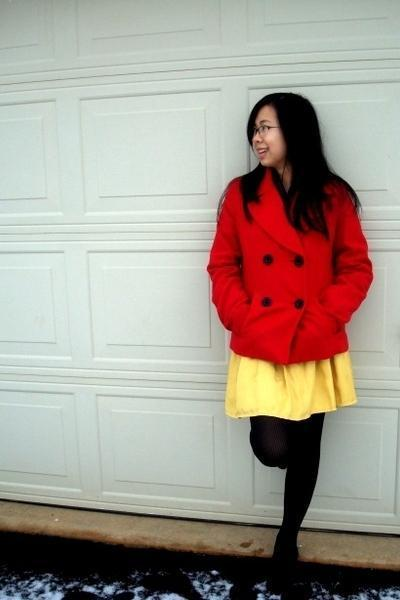jacket: (207, 180, 373, 366)
shoe: (280, 548, 311, 576)
skirt: (225, 352, 355, 419)
